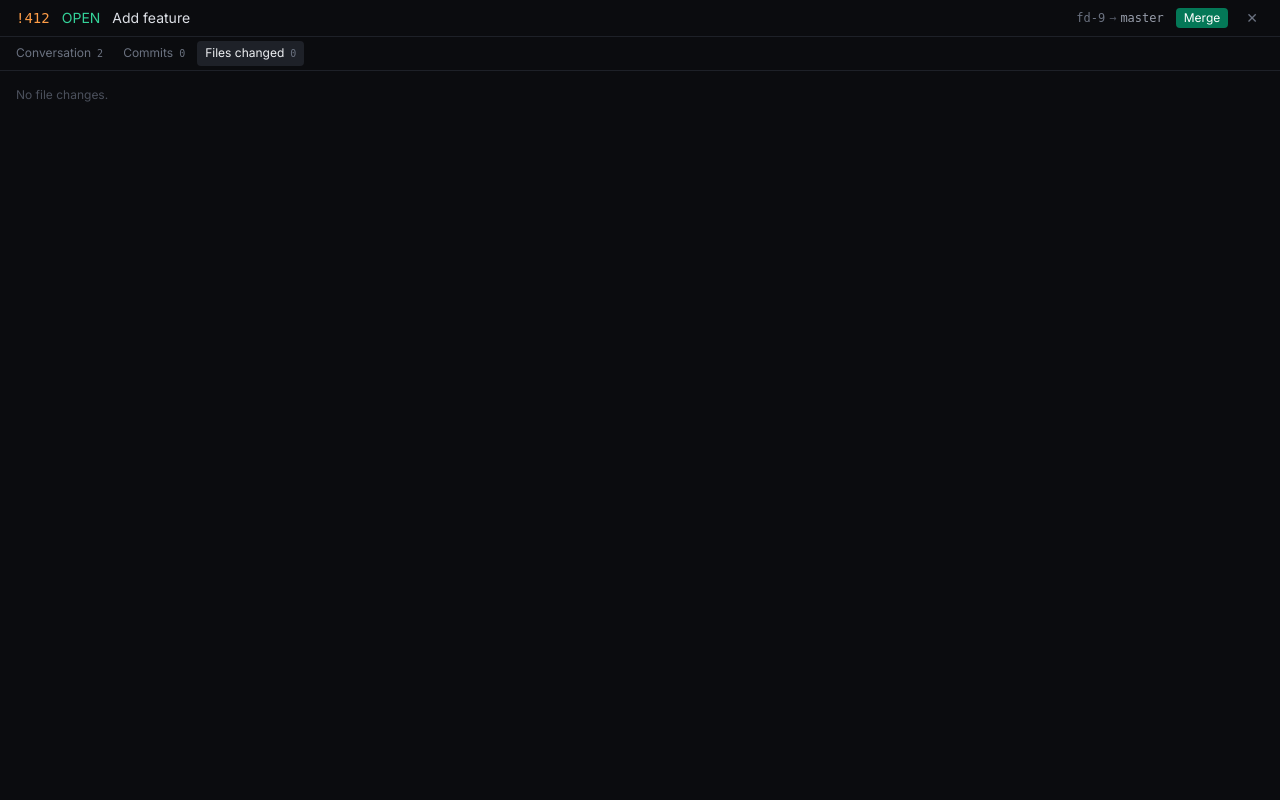
Test: MrReview › reads the description and comments in a Conversation tab
Click the button named "Conversation 2" at (60, 54), box [8,41,111,66]
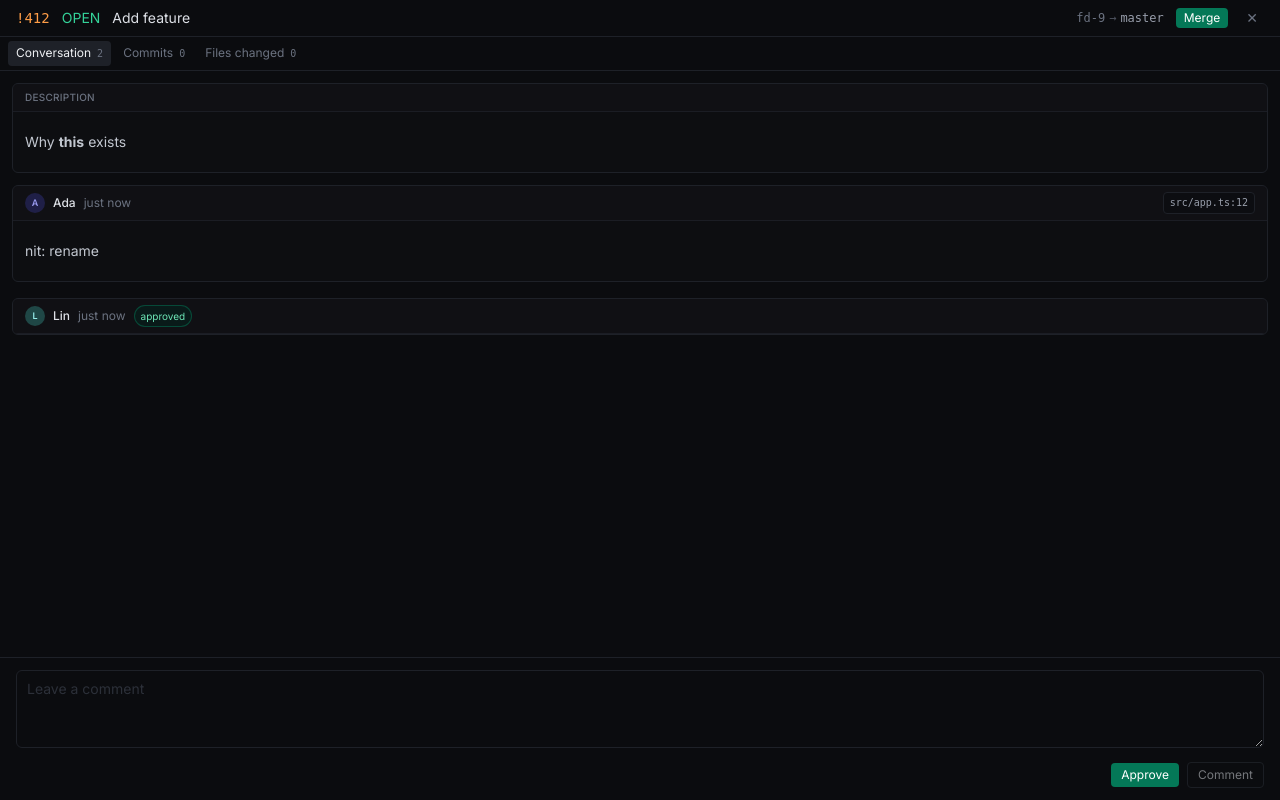
expect the heading "Description" is shown: met, box [13,84,1267,112]
expect the text "this" is shown: met, box [59,133,84,150]
expect the text "nit: rename" is shown: met, box [25,242,99,259]
